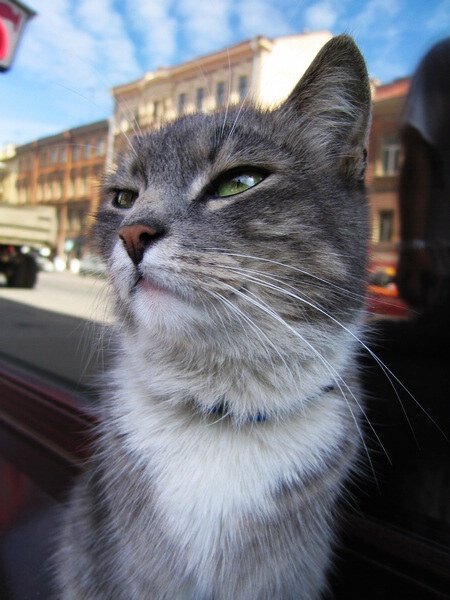cat: (1, 32, 377, 600)
